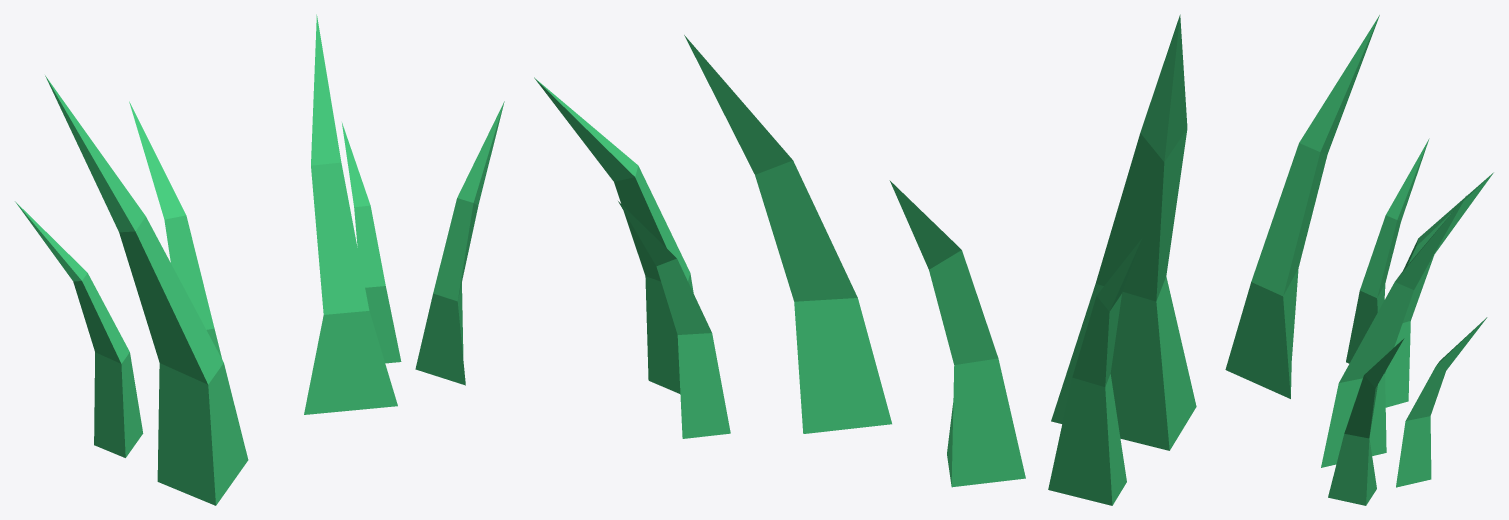
The model's file is grass.obj.
3 renders of one model, left to right at view 1: azimuth 30°, elevation 25°; view 2: azimuth 150°, elevation 25°; view 3: azimuth 270°, elevation 25°, orthographic. The views are drawn at different scales.
Visible parts, largest first — view 1: 000_Grass; view 2: 000_Grass; view 3: 000_Grass.
Part boxes in pixels (bbox=[...]): 000_Grass: bbox=[15, 14, 504, 505]; 000_Grass: bbox=[534, 14, 1196, 505]; 000_Grass: bbox=[1225, 15, 1493, 505].
Bounding box in the file's own units: 51.1 × 39.4 × 29.73.
